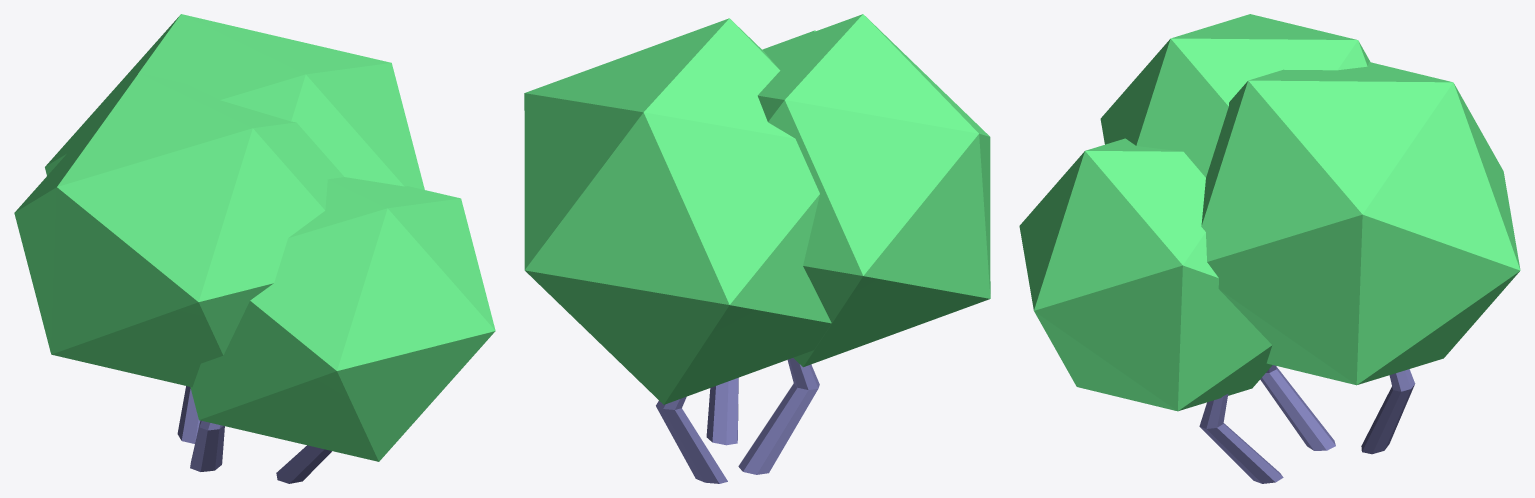
The model's file is SM_Bush_02.fbx.
3 views of the same model, side by side, from view 1: azimuth 30°, elevation 25°; view 2: azimuth 150°, elevation 25°; view 3: azimuth 270°, elevation 25° (orthographic). The views are drawn at different scales.
Parts seen in each view (by area): view 1: Icosphere.000; view 2: Icosphere.000; view 3: Icosphere.000.
Boxes of the visible parts, x1,y1,x2,y2 form: Icosphere.000: (14,14,495,483); Icosphere.000: (524,14,990,483); Icosphere.000: (1019,14,1520,483).
Bounding box in the file's own units: 136 × 133 × 151.
